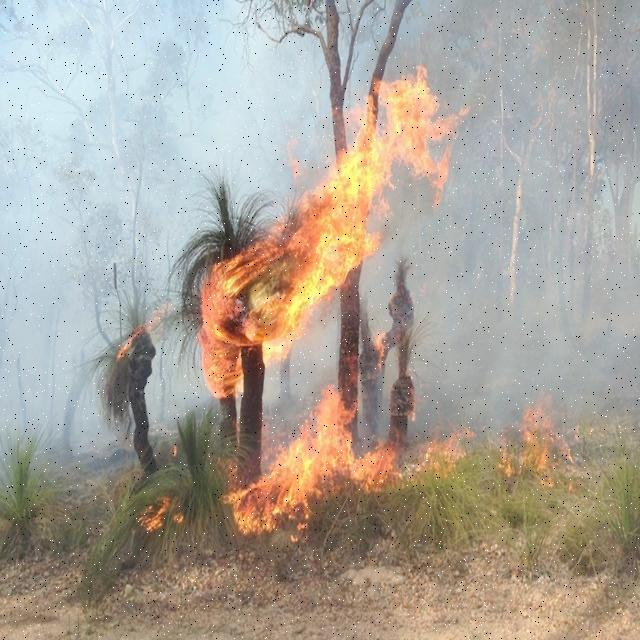fire: (199, 210, 313, 383), (392, 24, 444, 218), (327, 124, 385, 274), (270, 387, 332, 527)
smoke: (451, 130, 636, 435)
